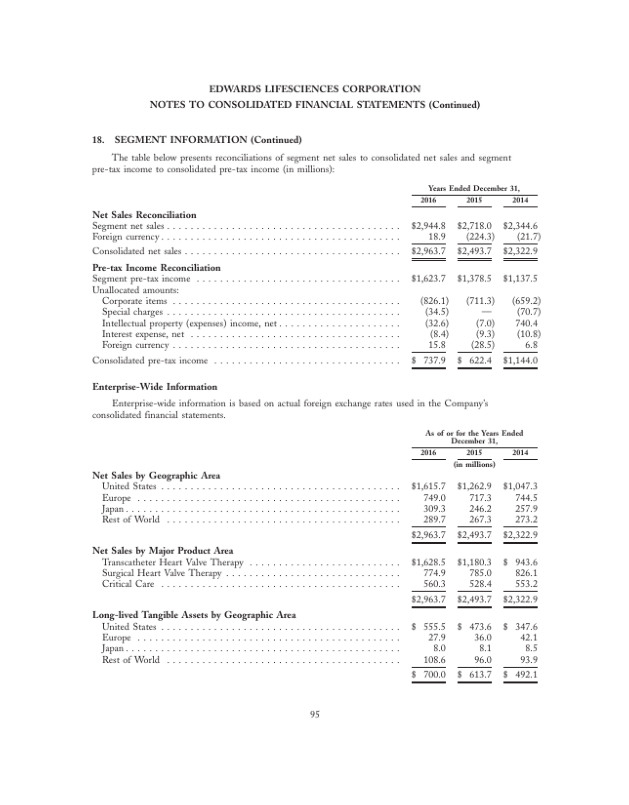table: (407, 426, 541, 690), (404, 185, 541, 372)
